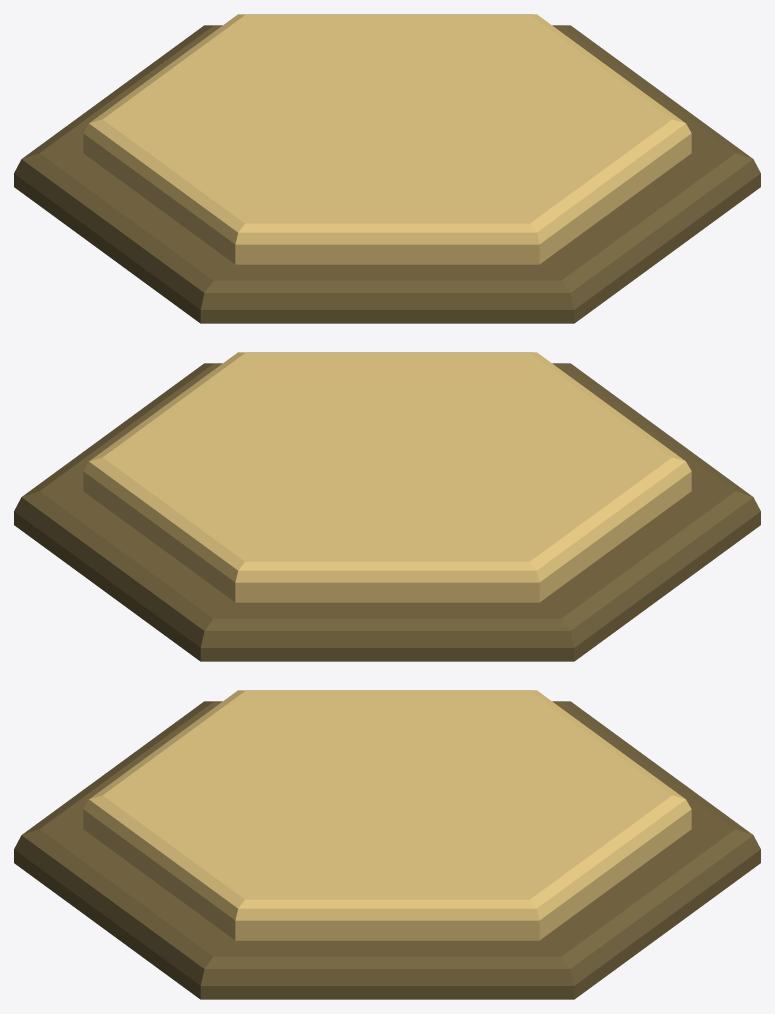
Rendered from hexagon-sand.glb.
3 renders of one model, top to bottom at view 1: azimuth 30°, elevation 25°; view 2: azimuth 150°, elevation 25°; view 3: azimuth 270°, elevation 25°, orthographic.
Visible parts, largest first — view 1: Cylinder.001, Cylinder; view 2: Cylinder.001, Cylinder; view 3: Cylinder.001, Cylinder.
Boxes of the visible parts, x1,y1,x2,y2 form: Cylinder.001: [83, 14, 691, 264]; Cylinder: [14, 25, 760, 323]; Cylinder.001: [83, 352, 691, 602]; Cylinder: [14, 363, 760, 661]; Cylinder.001: [83, 690, 691, 940]; Cylinder: [14, 701, 760, 999].
Size of the model in its own units: 4 by 0.4619 by 4.62.
